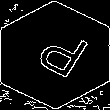P_SW: (23, 24, 87, 86)
